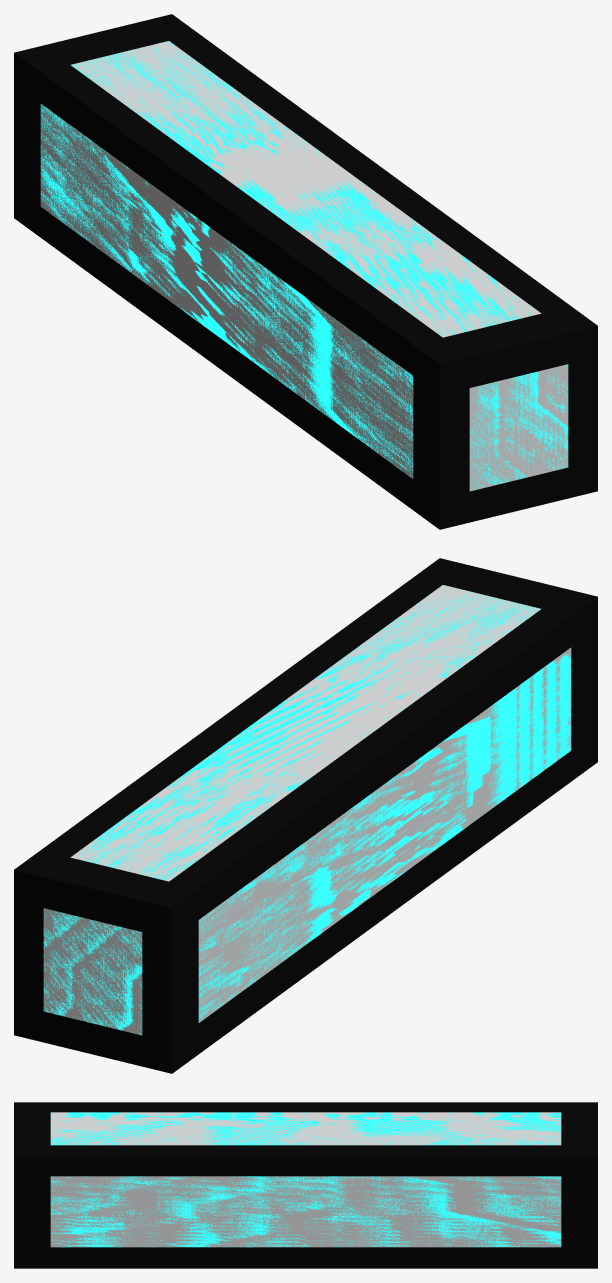
The model's file is glowingr3drectangle (1).fbx.
3 views of the same model, one above another, from view 1: azimuth 30°, elevation 25°; view 2: azimuth 150°, elevation 25°; view 3: azimuth 270°, elevation 25° (orthographic). The views are drawn at different scales.
Visible parts, largest first — view 1: Cube.001, Cube; view 2: Cube.001, Cube; view 3: Cube.001, Cube.
Part boxes in pixels (x1,y1,x2,y2): Cube.001: (14, 14, 597, 529); Cube: (40, 41, 568, 490); Cube.001: (14, 558, 597, 1073); Cube: (43, 586, 571, 1034); Cube.001: (14, 1102, 597, 1268); Cube: (50, 1112, 561, 1247).
Bounding box in the file's own units: 200 × 200 × 933.
